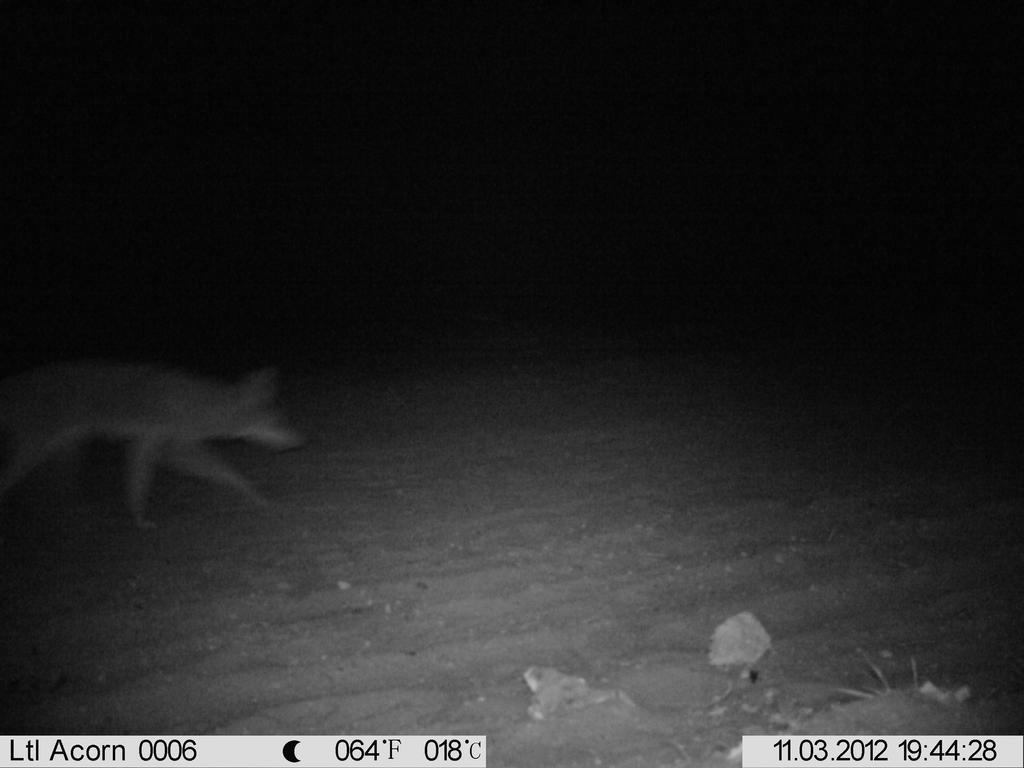coyote: (7, 346, 364, 543)
